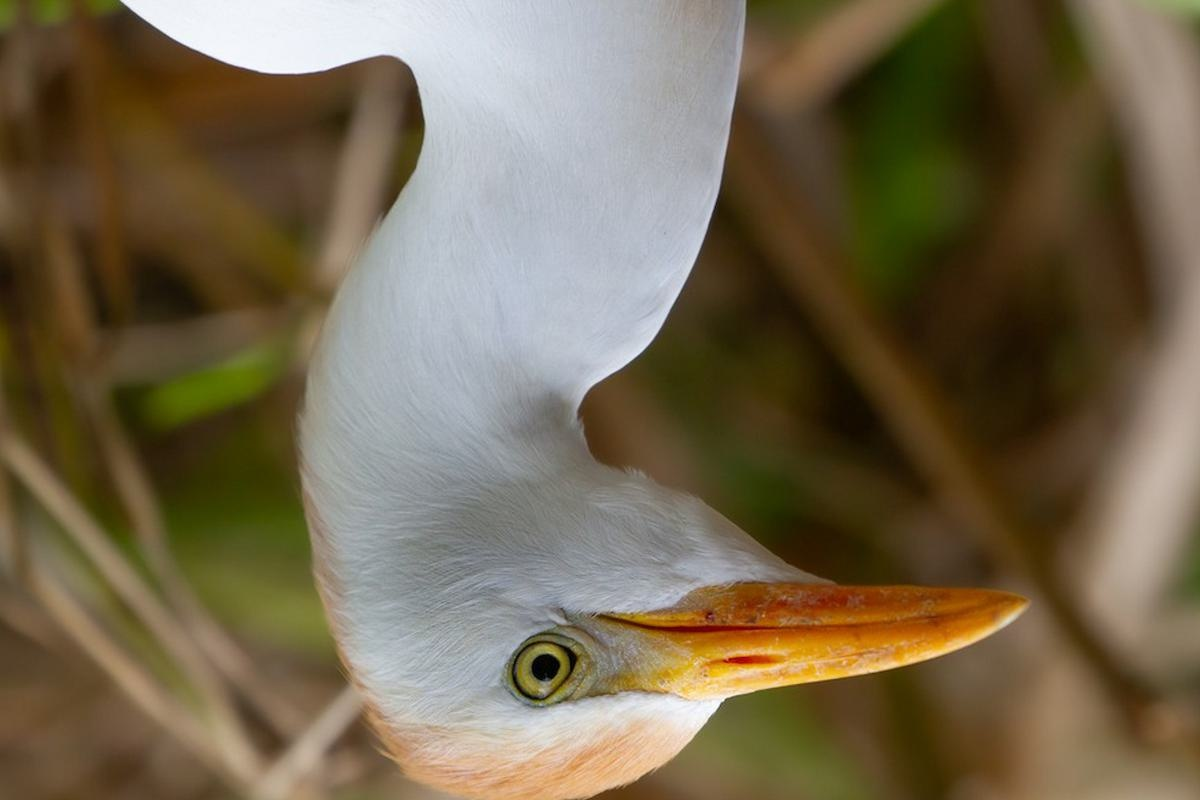egret: (123, 1, 1038, 791)
